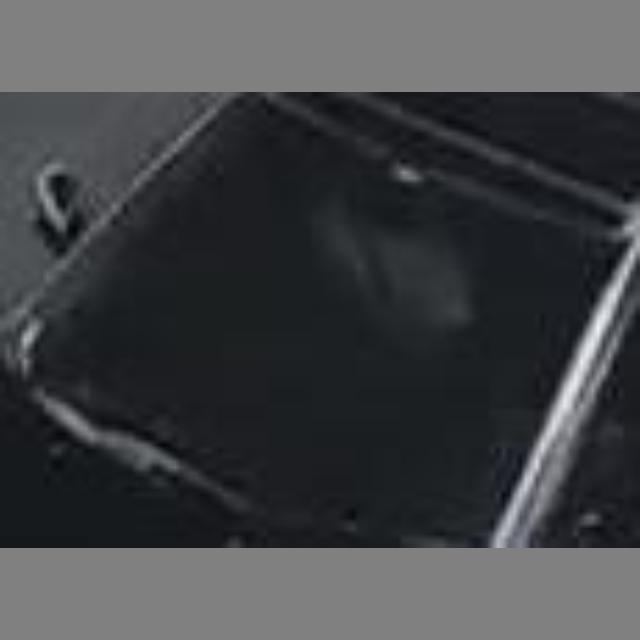pakai: (250, 142, 484, 409)
